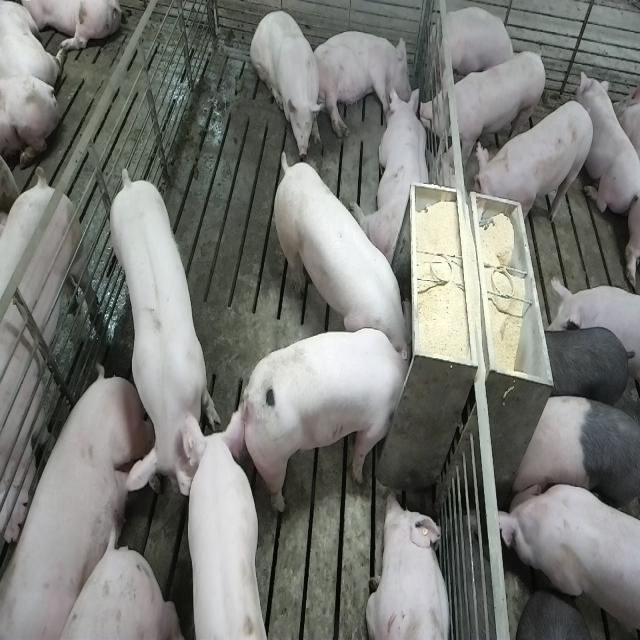Feeding: (246, 327, 420, 515), (270, 144, 410, 356)
Lateral_lying: (3, 366, 164, 640), (311, 29, 413, 140)
Sitting: (250, 6, 324, 160)
Standing: (0, 172, 100, 561), (105, 167, 220, 501), (499, 480, 638, 640), (170, 426, 264, 640), (510, 391, 638, 523), (474, 99, 596, 228), (421, 46, 548, 159), (528, 323, 638, 414), (516, 593, 608, 640)
Sternal_lying: (357, 86, 432, 268), (366, 490, 452, 640), (578, 71, 638, 222)
